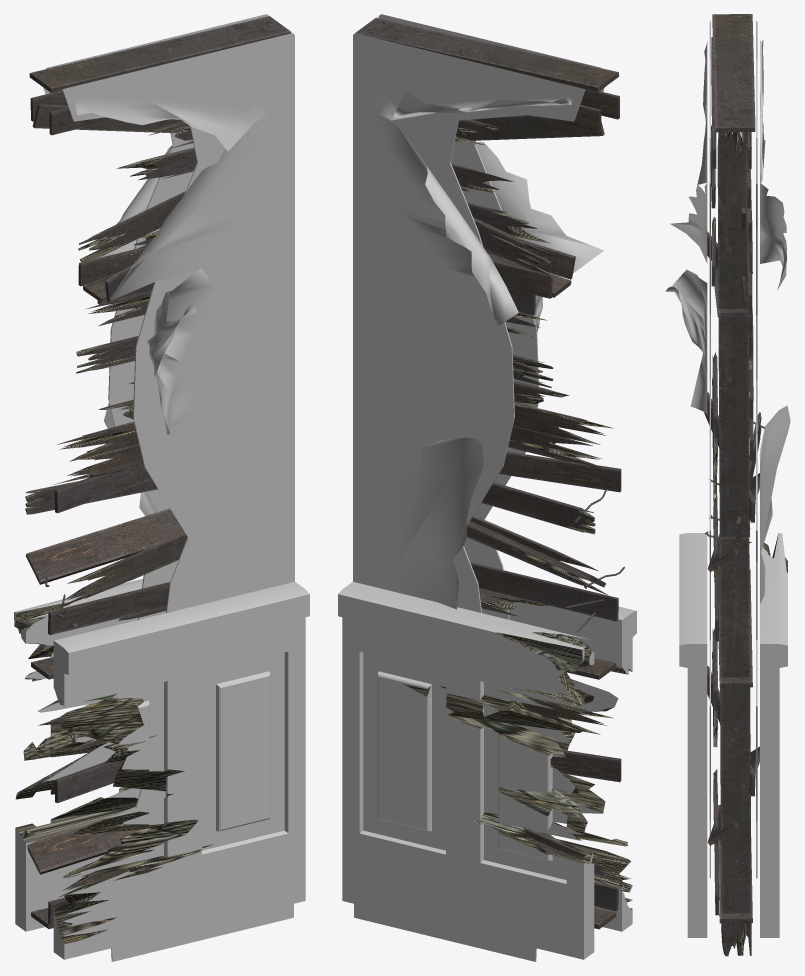
Rendered from SM_Wall100B_DS.FBX.
3 views of the same model, side by side, from view 1: azimuth 30°, elevation 25°; view 2: azimuth 150°, elevation 25°; view 3: azimuth 270°, elevation 25° (orthographic). The views are drawn at different scales.
Visible parts, largest first — view 1: SM_Wall100B_DS_LOD0; view 2: SM_Wall100B_DS_LOD0; view 3: SM_Wall100B_DS_LOD0.
Part boxes in pixels (box(x1,y1,x2,y2)): SM_Wall100B_DS_LOD0: box(14, 14, 309, 961); SM_Wall100B_DS_LOD0: box(338, 14, 636, 961); SM_Wall100B_DS_LOD0: box(665, 14, 790, 956).
Size of what is drawn, in the model's own units: 102 by 351 by 47.64.
